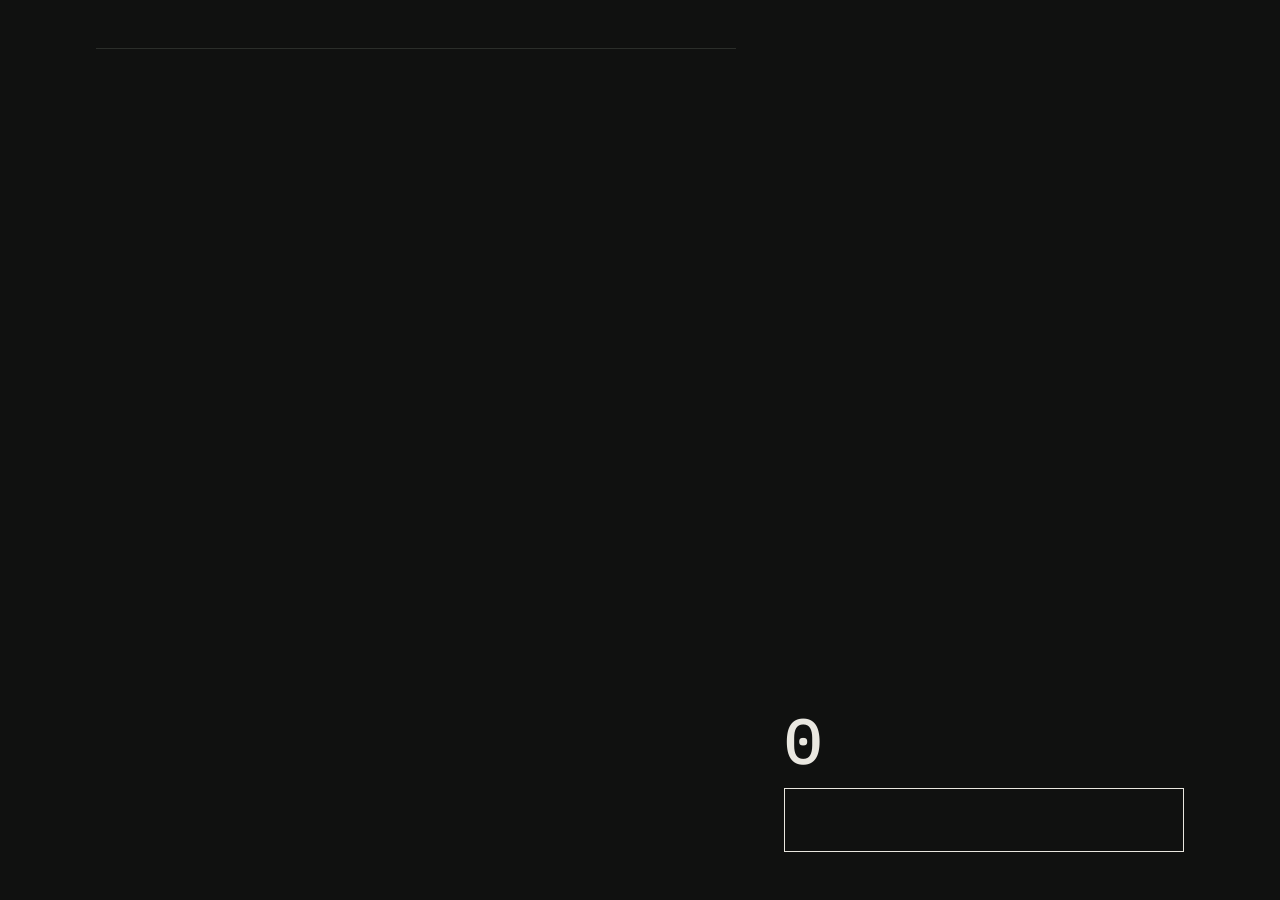
Test: the opening › the button earns its label by being pressed
Click the button named "Unlabelled button" at (984, 820), box [784, 788, 1184, 852]
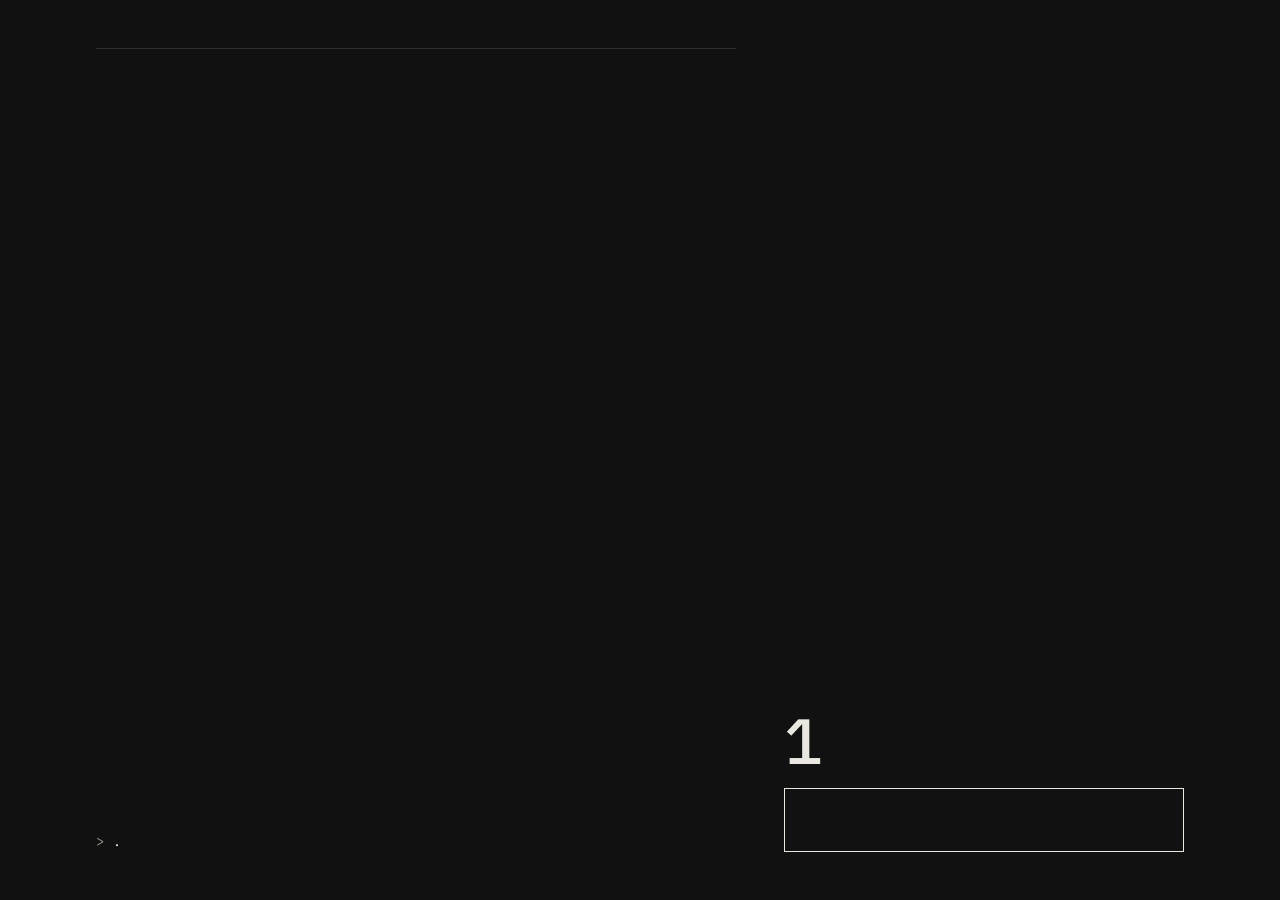
Click the button named "Unlabelled button" at (984, 820), box [784, 788, 1184, 852]
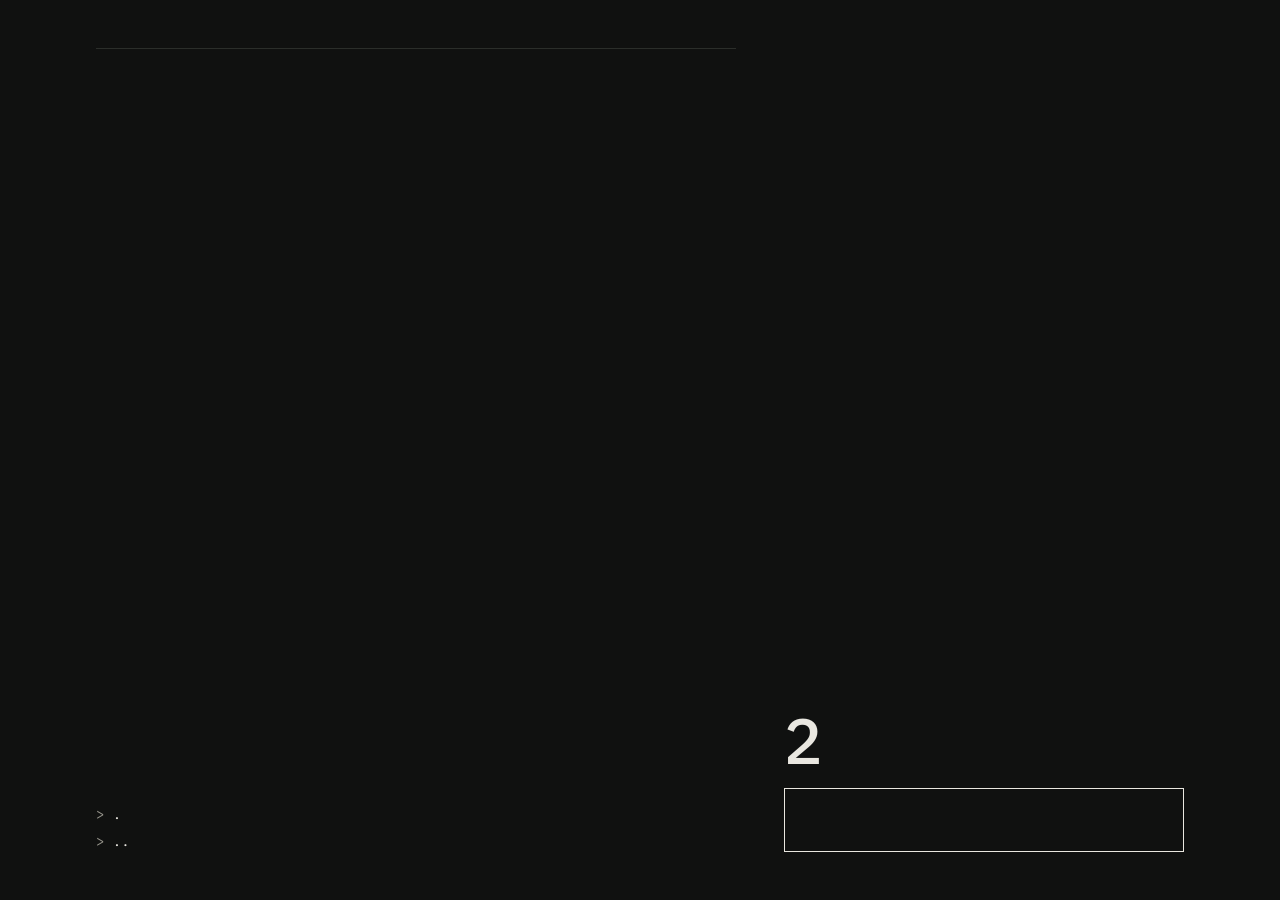
Click the button named "Unlabelled button" at (984, 820), box [784, 788, 1184, 852]
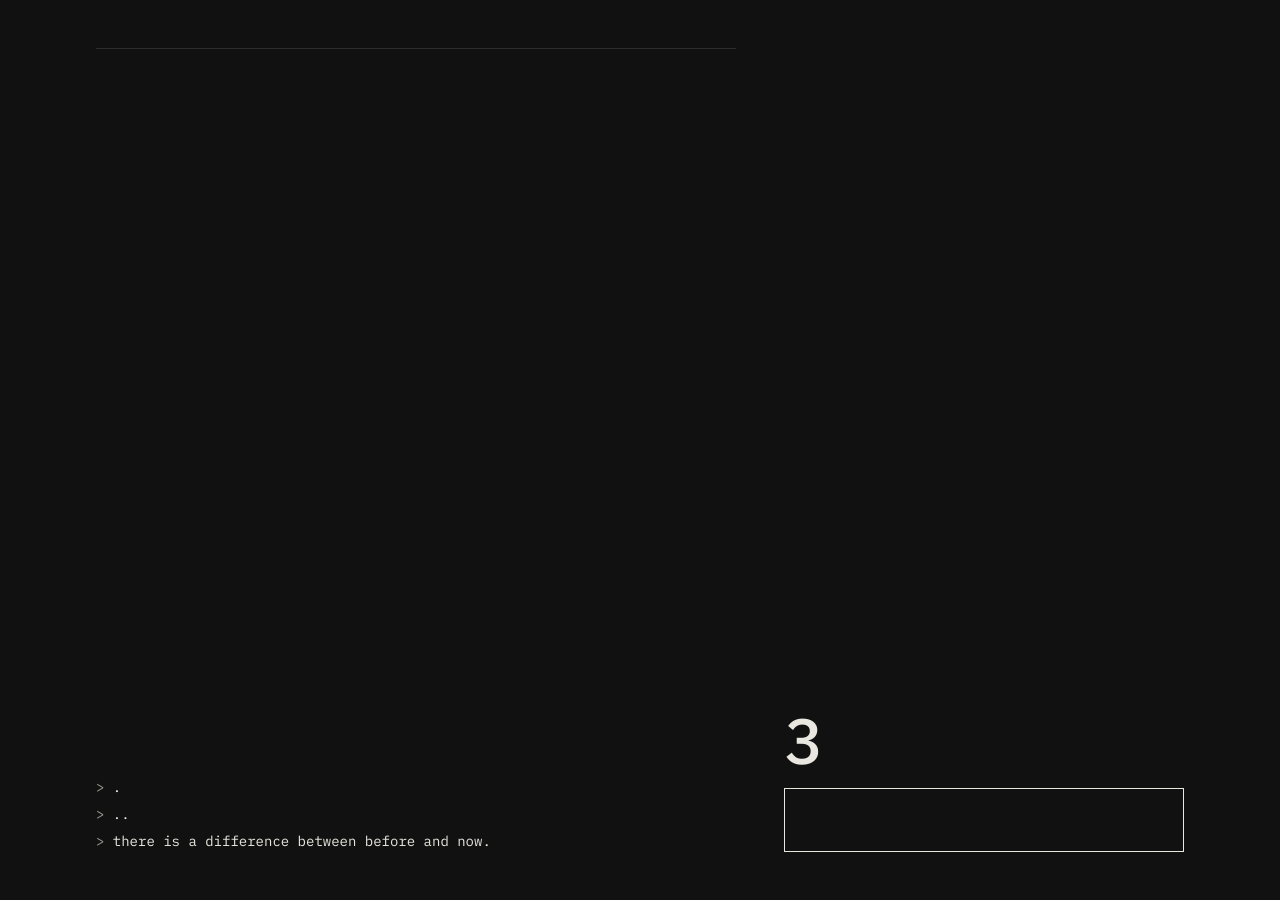
Click the button named "Unlabelled button" at (984, 820), box [784, 788, 1184, 852]
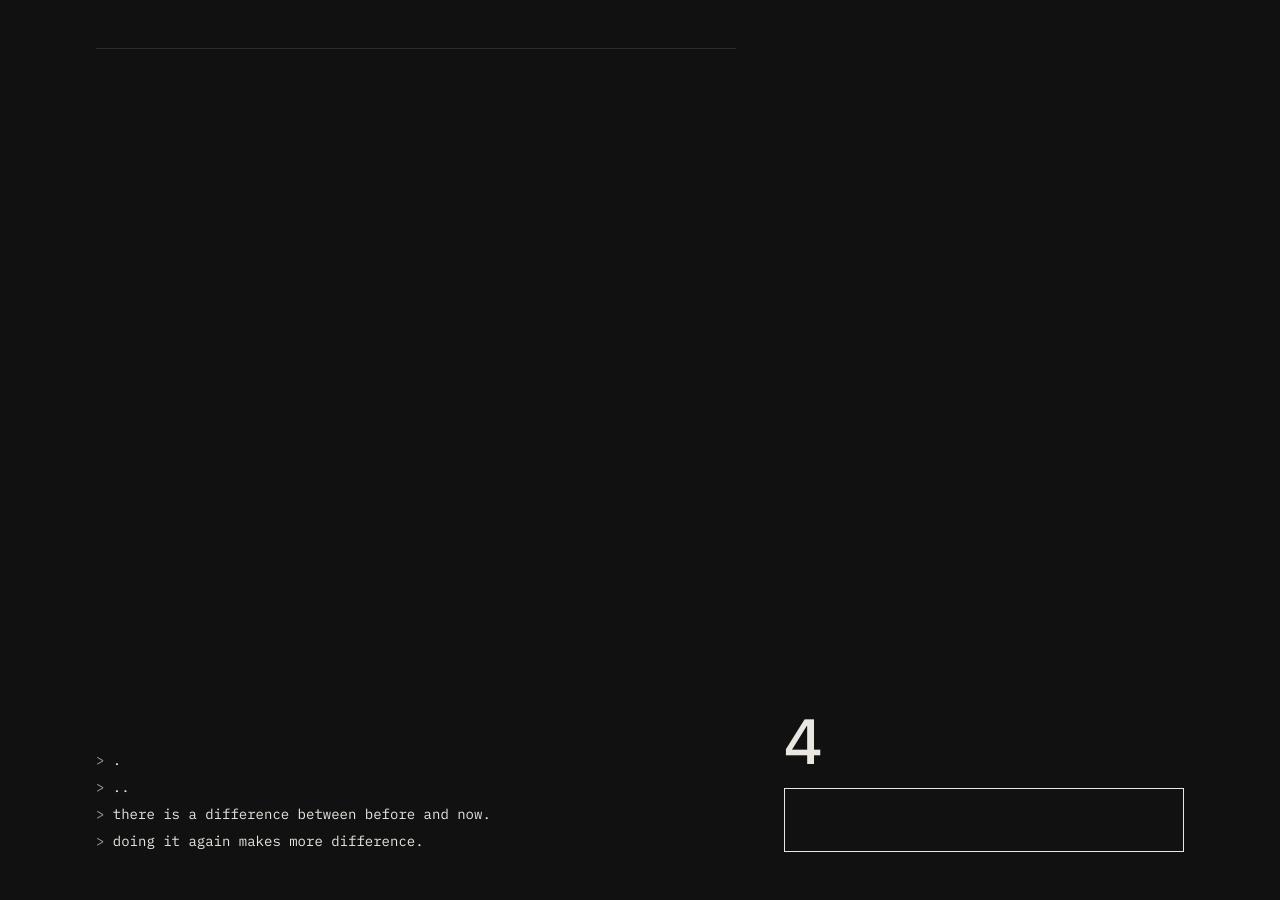
Click the button named "Unlabelled button" at (984, 820), box [784, 788, 1184, 852]
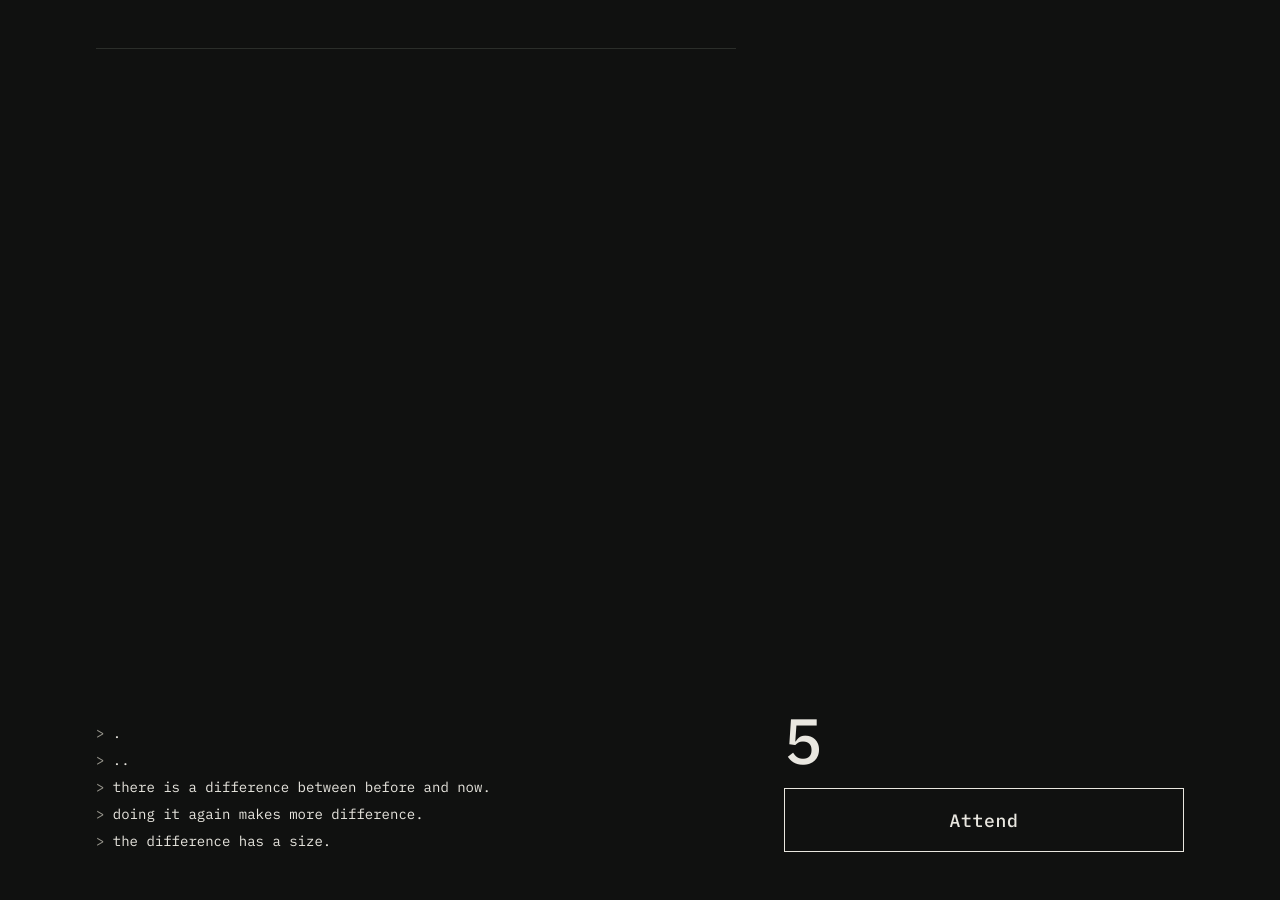
Now the text "there is a difference between before and now." is shown, box [113, 778, 491, 796]
Now the button "Attend" is shown, box [784, 788, 1184, 852]
